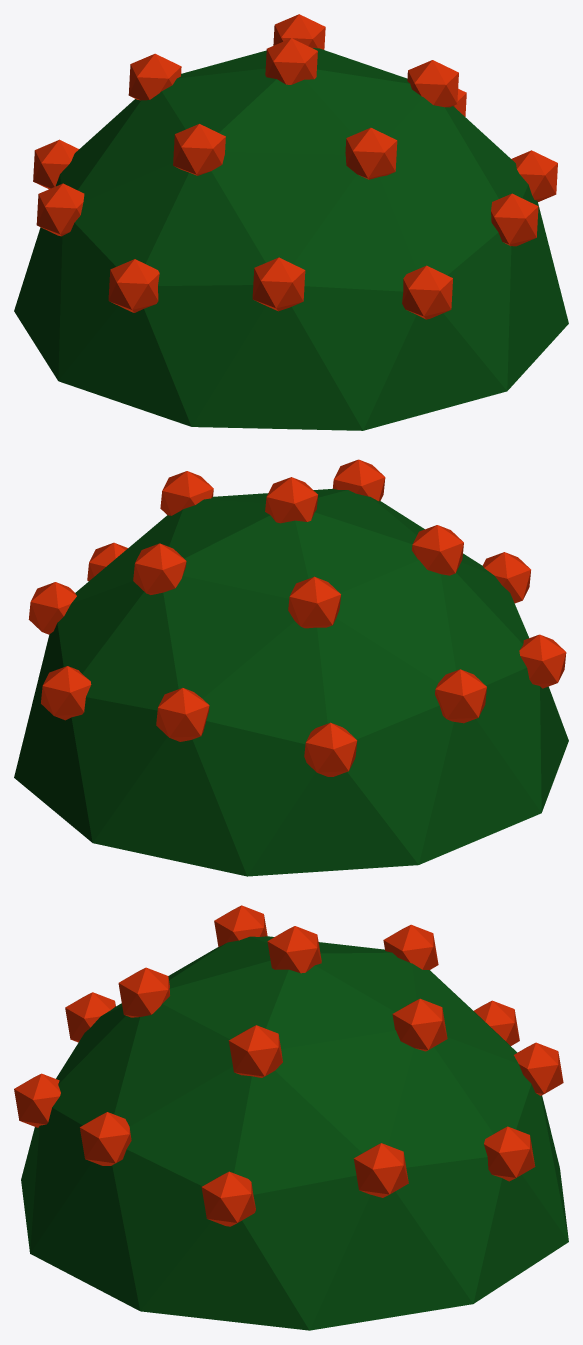
Rendered from BushFruitsOrange.obj.
3 renders of one model, top to bottom at view 1: azimuth 30°, elevation 25°; view 2: azimuth 150°, elevation 25°; view 3: azimuth 270°, elevation 25°, orthographic. The views are drawn at different scales.
Parts seen in each view (by area): view 1: BushFruitsOrange_Icosphere.047; view 2: BushFruitsOrange_Icosphere.047; view 3: BushFruitsOrange_Icosphere.047.
Boxes of the visible parts, <box> form: BushFruitsOrange_Icosphere.047: <box>14,14,568,430</box>; BushFruitsOrange_Icosphere.047: <box>14,459,568,876</box>; BushFruitsOrange_Icosphere.047: <box>14,905,568,1330</box>.
Size of the model in its own units: 6.05 by 3.36 by 5.92.
